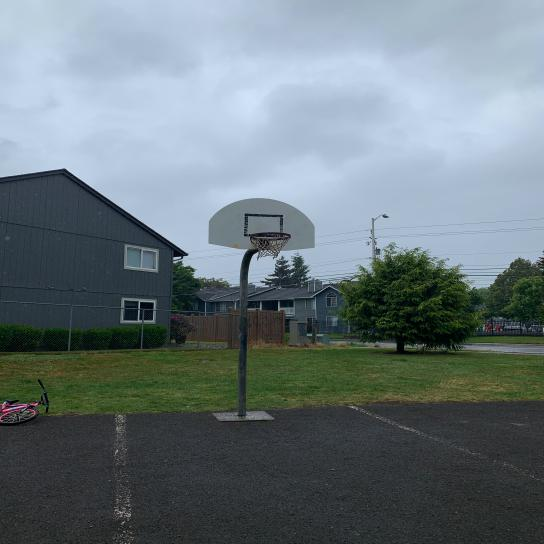basketball-hoop: (248, 231, 292, 261)
